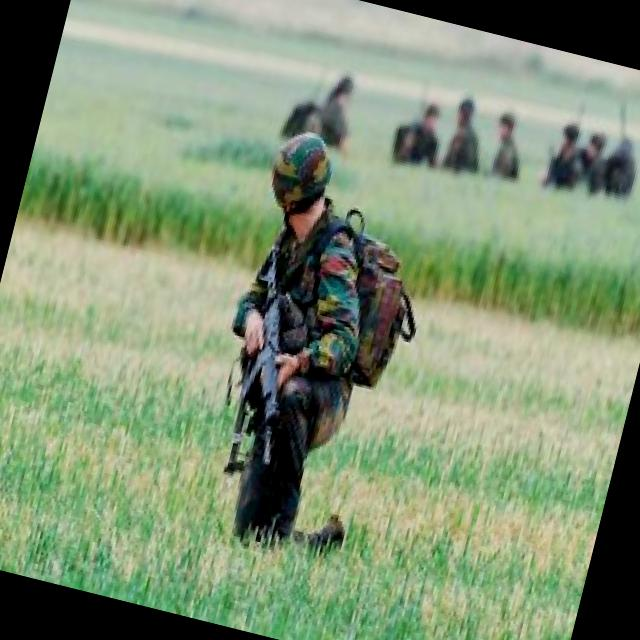long weapon: (198, 247, 334, 488)
